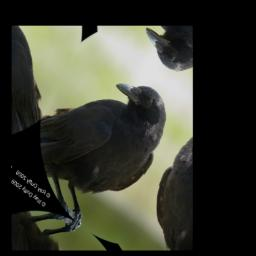Crow: (13, 37, 181, 246)
